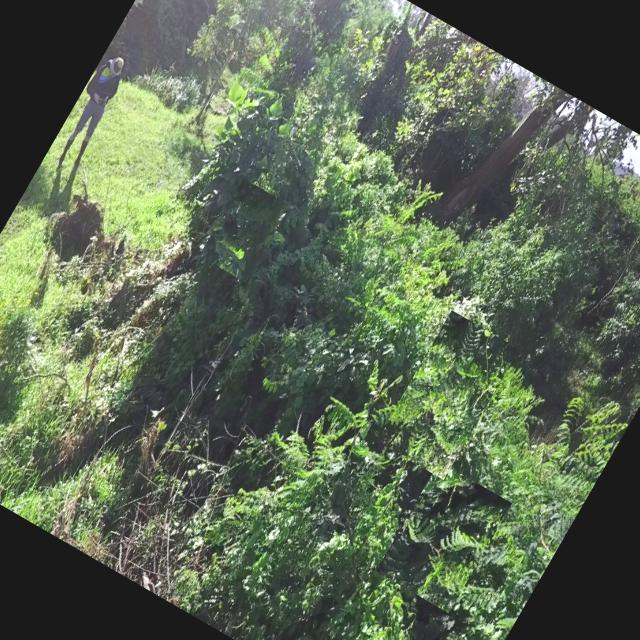Mysore-Thorn-Weed: (188, 335, 437, 640), (473, 388, 630, 592), (314, 180, 482, 358), (376, 310, 520, 480), (376, 462, 512, 614), (199, 179, 290, 283)
